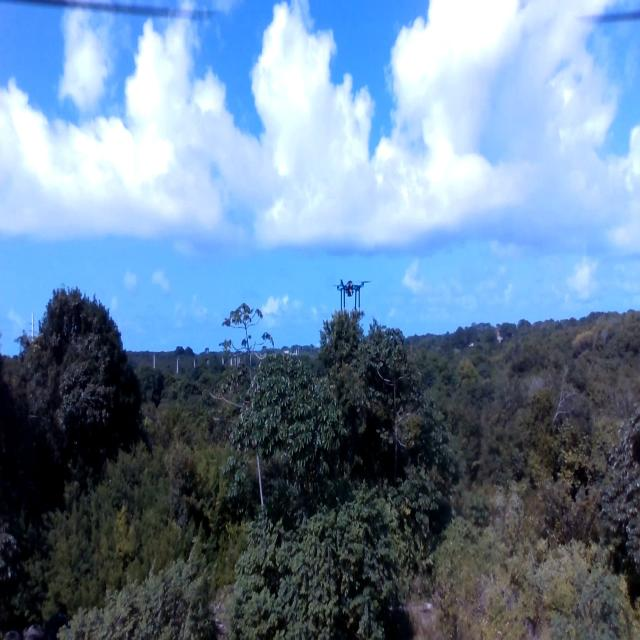-uav-: (330, 267, 374, 322)
